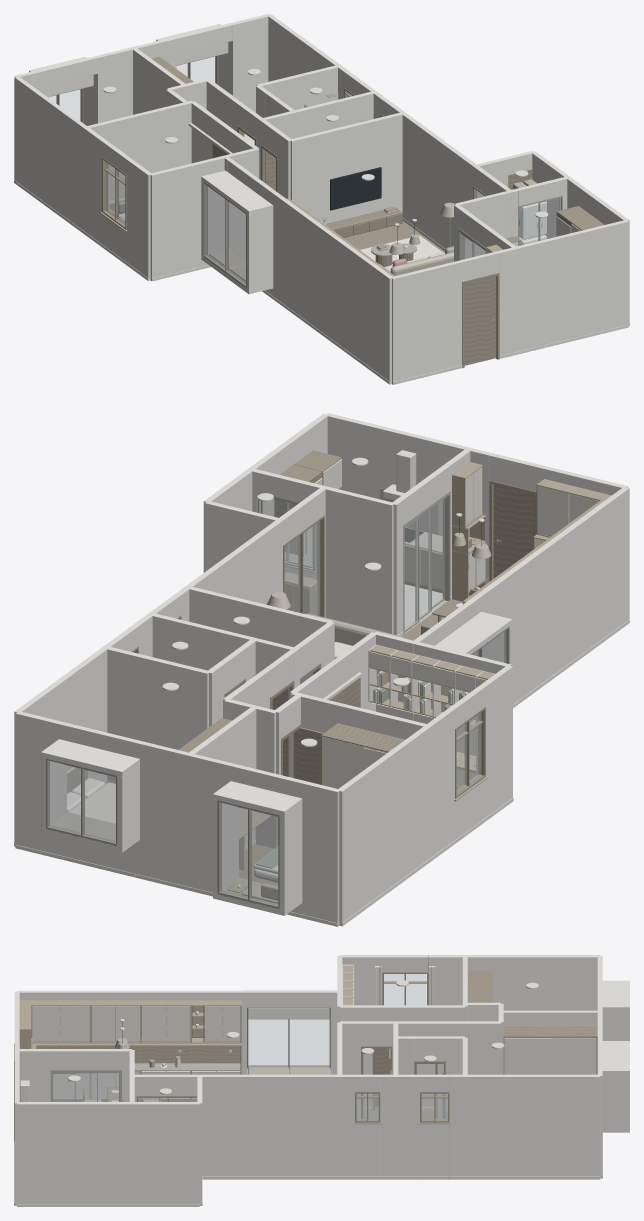
Rendered from huiyayuan-wood.glb.
3 views of the same model, one above another, from view 1: azimuth 30°, elevation 25°; view 2: azimuth 150°, elevation 25°; view 3: azimuth 270°, elevation 25° (orthographic). The views are drawn at different scales.
Visible parts, largest first — view 1: Wall 04 / pier.001, Wall 03 / pier.001, Wall 01 / pier, Wall 23 / pier, Wall 04 / pier, Wall 07 / pier.002, Wall 02 / pier, Wall 15 / pier, Wall 00 / pier.001, Wall 00 / pier.002, Wall 07 / pier, Wall 21 / pier (+40 smaller); view 2: Wall 03 / pier.001, Wall 01 / pier, Wall 00 / pier.001, Wall 10 / pier, Wall 20 / pier, Wall 04 / pier.001, Wall 00 / pier, Wall 00 / pier.002, Wall 07 / pier, Wall 07 / pier.002, Wall 23 / pier, Wall 21 / pier (+59 smaller); view 3: Wall 05 / pier, Wall 07 / pier.002, Wall 07 / pier, Wall 01 / pier, Wall 07 / pier.001, Wall 03 / pier.001, Wall 14 / pier, window_living_west / bay clear glazing panel, window_living_west / bay clear glazing panel.001, 主卧衣柜 sliding door, 主卧衣柜 sliding door.001, Wall 07 / sill (+55 smaller).
Part boxes in pixels (box(x1,y1,x2,y2)): Wall 04 / pier.001: box(497, 220, 628, 355); Wall 03 / pier.001: box(271, 191, 393, 384); Wall 01 / pier: box(14, 76, 106, 244); Wall 23 / pier: box(290, 112, 402, 223); Wall 04 / pier: box(391, 260, 461, 384); Wall 07 / pier.002: box(393, 107, 476, 248); Wall 02 / pier: box(150, 155, 226, 281); Wall 15 / pier: box(87, 101, 193, 199); Wall 00 / pier.001: box(95, 37, 176, 123); Wall 00 / pier.002: box(230, 14, 270, 112); Wall 07 / pier: box(268, 14, 348, 99); Wall 21 / pier: box(261, 91, 373, 138); Wall 03 / pier.001: box(473, 487, 629, 704); Wall 01 / pier: box(339, 708, 454, 926); Wall 00 / pier.001: box(135, 740, 238, 892); Wall 10 / pier: box(323, 486, 394, 634); Wall 20 / pier: box(107, 647, 208, 782); Wall 04 / pier.001: box(325, 413, 492, 583); Wall 00 / pier: box(297, 780, 340, 926); Wall 00 / pier.002: box(15, 711, 66, 856); Wall 07 / pier: box(14, 639, 118, 846); Wall 07 / pier.002: box(175, 519, 282, 621); Wall 23 / pier: box(189, 586, 333, 682); Wall 21 / pier: box(151, 613, 295, 695); Wall 05 / pier: box(17, 1102, 199, 1203); Wall 07 / pier.002: box(199, 1074, 354, 1176); Wall 07 / pier: box(449, 1074, 600, 1176); Wall 01 / pier: box(428, 955, 600, 1010); Wall 07 / pier.001: box(380, 1074, 419, 1176); Wall 03 / pier.001: box(17, 990, 246, 1074); Wall 14 / pier: box(437, 1021, 500, 1118); window_living_west / bay clear glazing panel: box(290, 1019, 329, 1065); window_living_west / bay clear glazing panel.001: box(248, 1019, 287, 1065); 主卧衣柜 sliding door: box(550, 1038, 596, 1074); 主卧衣柜 sliding door.001: box(504, 1038, 550, 1074); Wall 07 / sill: box(420, 1124, 449, 1176).
Size of what is drawn, in the model's own units: 8.46 by 2.71 by 14.67.
23 materials, 4 textured.
